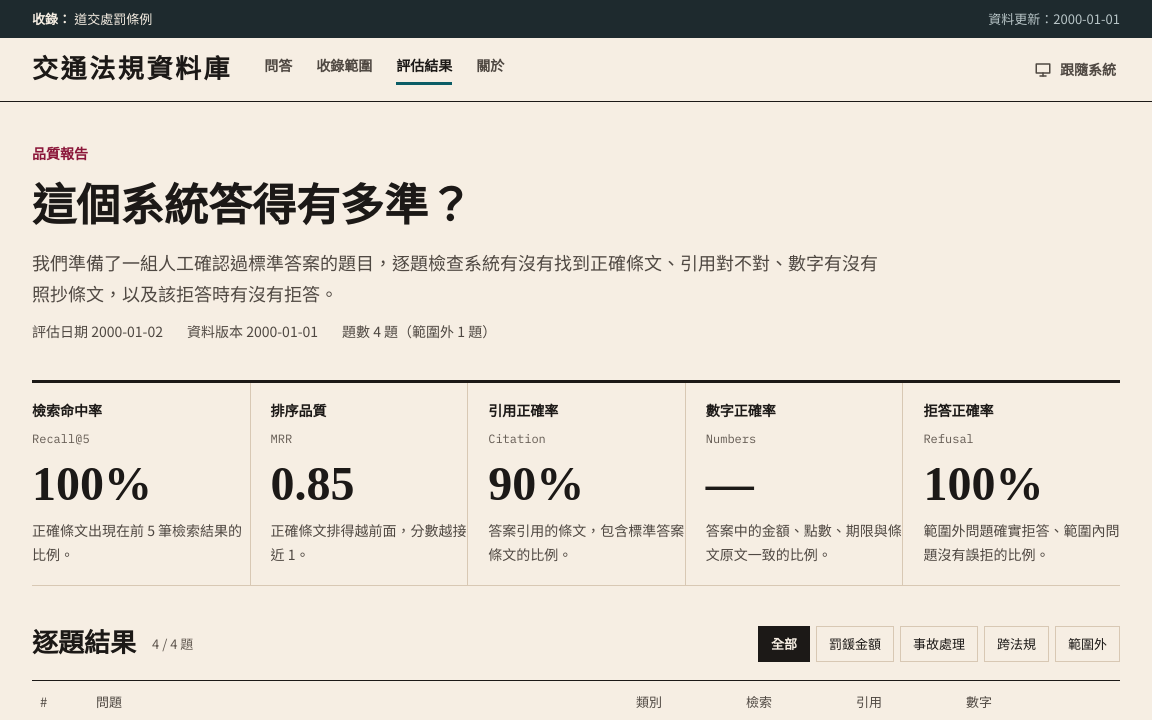
Scenario: 評估頁 › filters by category and shows the symbol legend
Expected: the button "全部" is shown, x1=758 y1=626 x2=810 y2=662
Click the button "範圍外".
click(1088, 644)  # box x1=1055 y1=626 x2=1120 y2=662
(page scrolled)
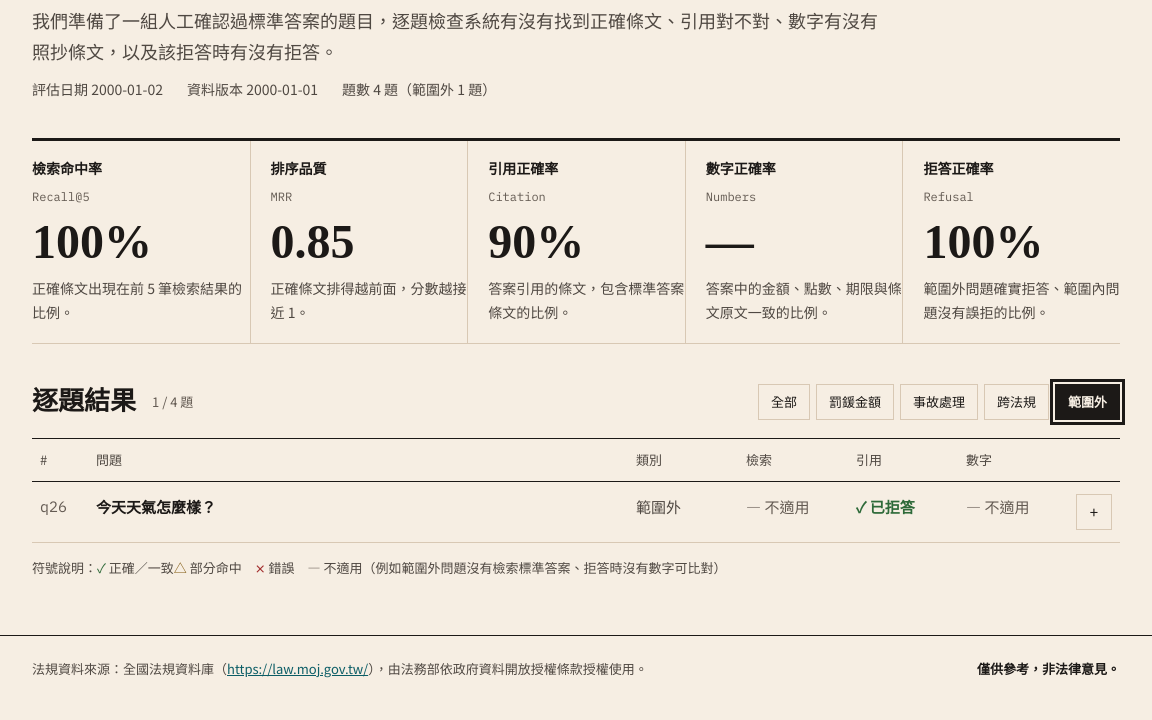
Expected: the button "範圍外" is shown, x1=1055 y1=384 x2=1120 y2=420
Result: the number of rows is 2 at x1=32 y1=438 x2=1120 y2=481; x1=32 y1=481 x2=1120 y2=542
Result: the text "1 / 4 題" is shown at x1=152 y1=391 x2=193 y2=413
